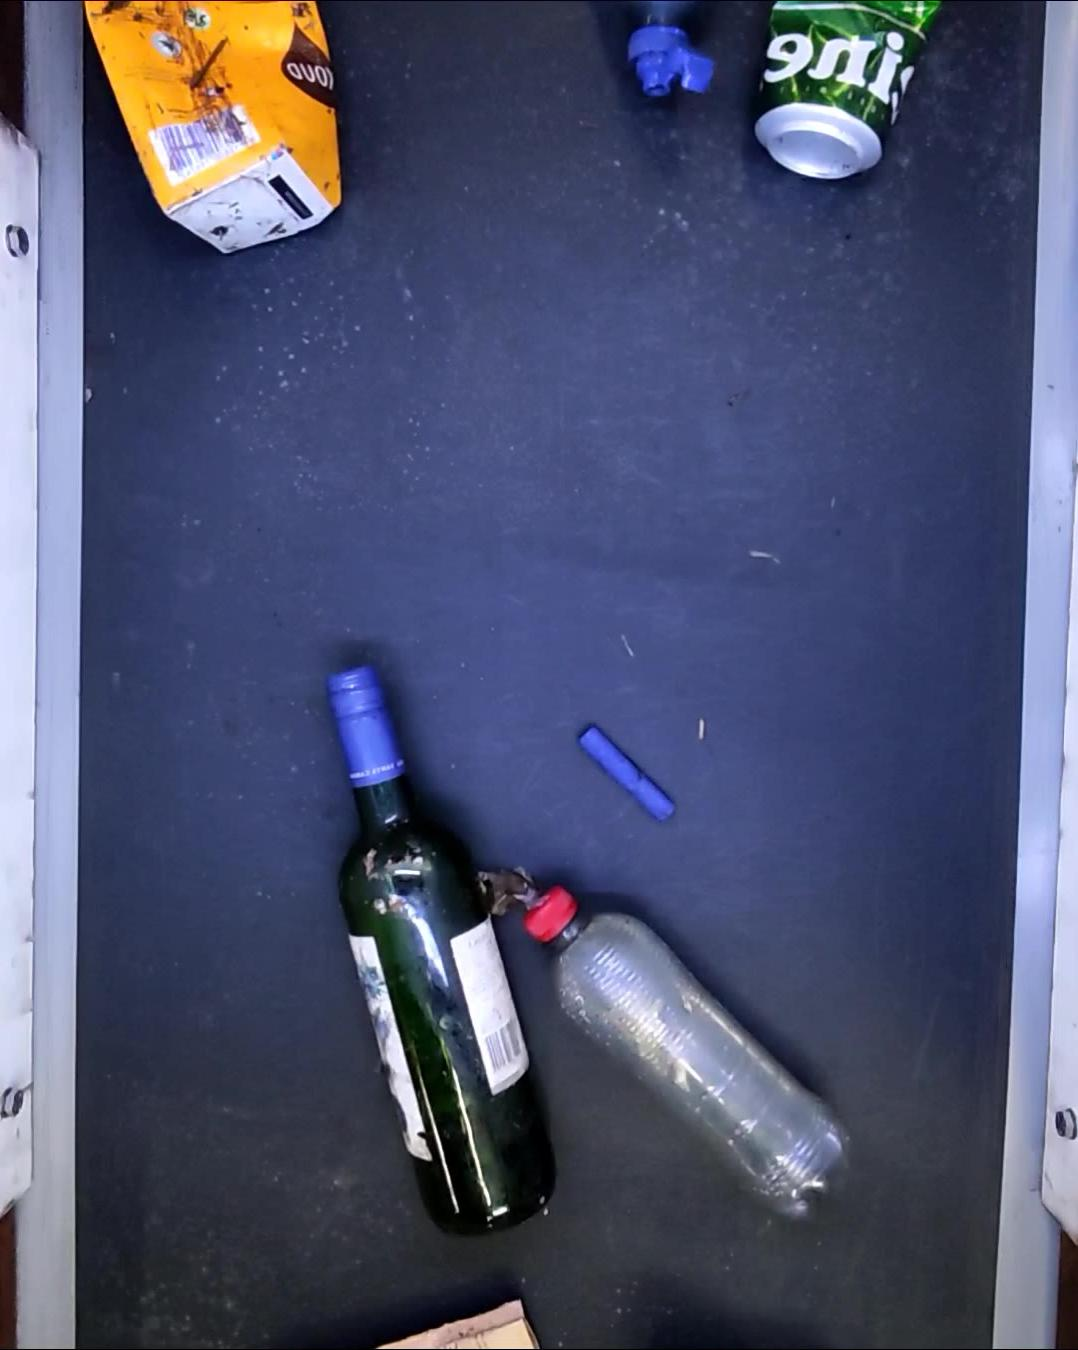Drankblikjes: (746, 0, 939, 175)
Drankflessen - 1-2 liter: (517, 889, 851, 1221), (620, 0, 710, 106)
